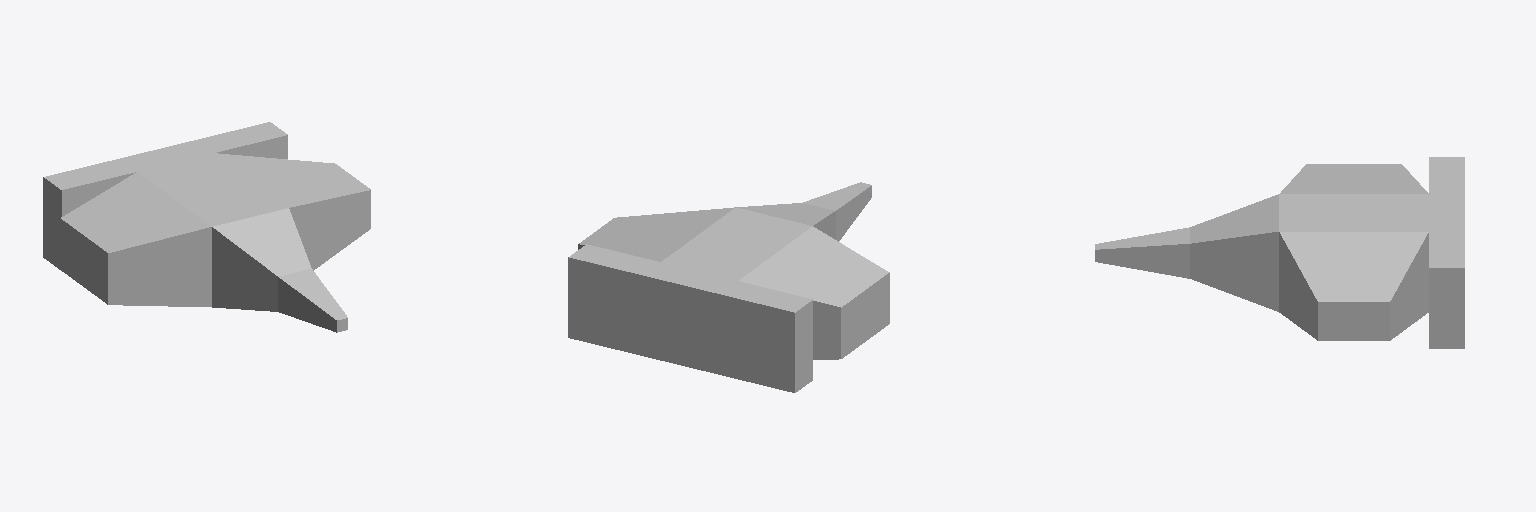
The model's file is spaceShip.obj.
The picture shows the model from 3 angles: view 1: azimuth 30°, elevation 25°; view 2: azimuth 150°, elevation 25°; view 3: azimuth 270°, elevation 25°; orthographic projection.
Parts seen in each view (by area): view 1: Cube; view 2: Cube; view 3: Cube.
Part boxes in pixels (bbox=[...]): Cube: bbox=[43, 122, 370, 332]; Cube: bbox=[568, 182, 889, 392]; Cube: bbox=[1095, 157, 1464, 348].
Size of the model in its own units: 6.98 by 2 by 8.32.